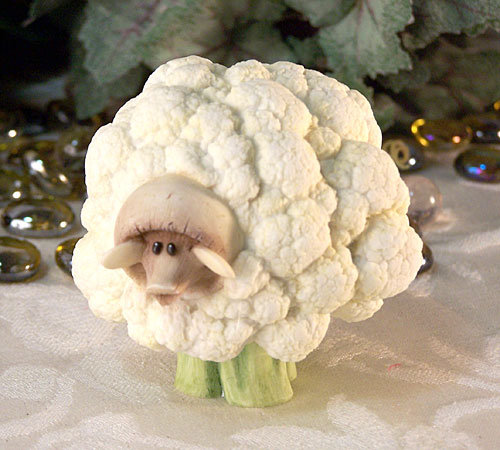cauliflower: (70, 55, 424, 362)
